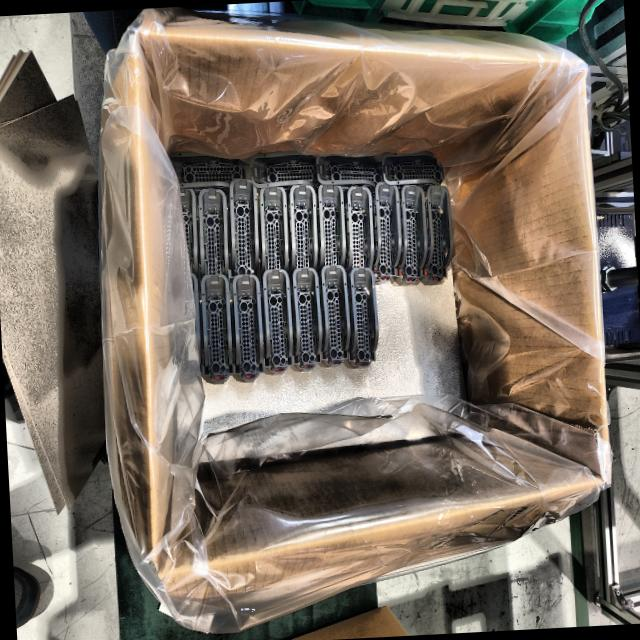P38: (199, 274, 233, 385), (230, 274, 264, 383), (391, 185, 426, 286), (419, 184, 453, 286), (168, 151, 250, 193), (289, 266, 321, 372), (260, 269, 292, 375), (195, 189, 229, 287), (225, 178, 258, 278), (346, 267, 378, 368), (319, 265, 350, 367), (370, 181, 401, 282), (256, 186, 287, 284), (315, 153, 383, 196), (286, 185, 317, 279), (315, 184, 345, 278), (249, 149, 318, 189), (343, 187, 373, 278), (381, 150, 444, 185), (179, 188, 197, 281), (190, 272, 202, 374)
